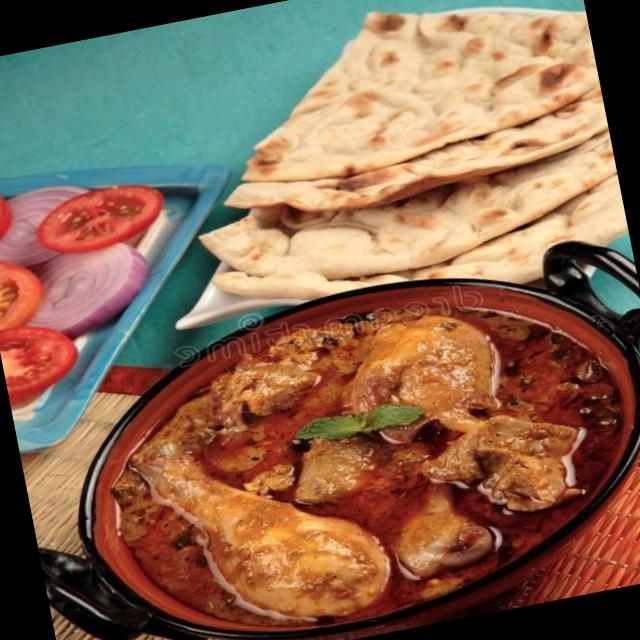chicken: (89, 253, 640, 636)
roti: (192, 0, 618, 334)
